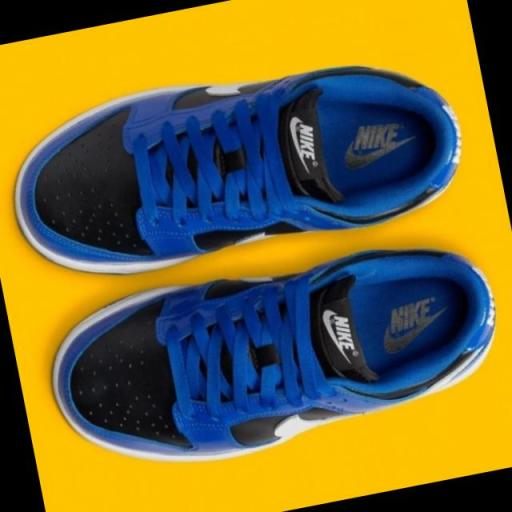Nike: (320, 308, 342, 358), (331, 313, 354, 352)
